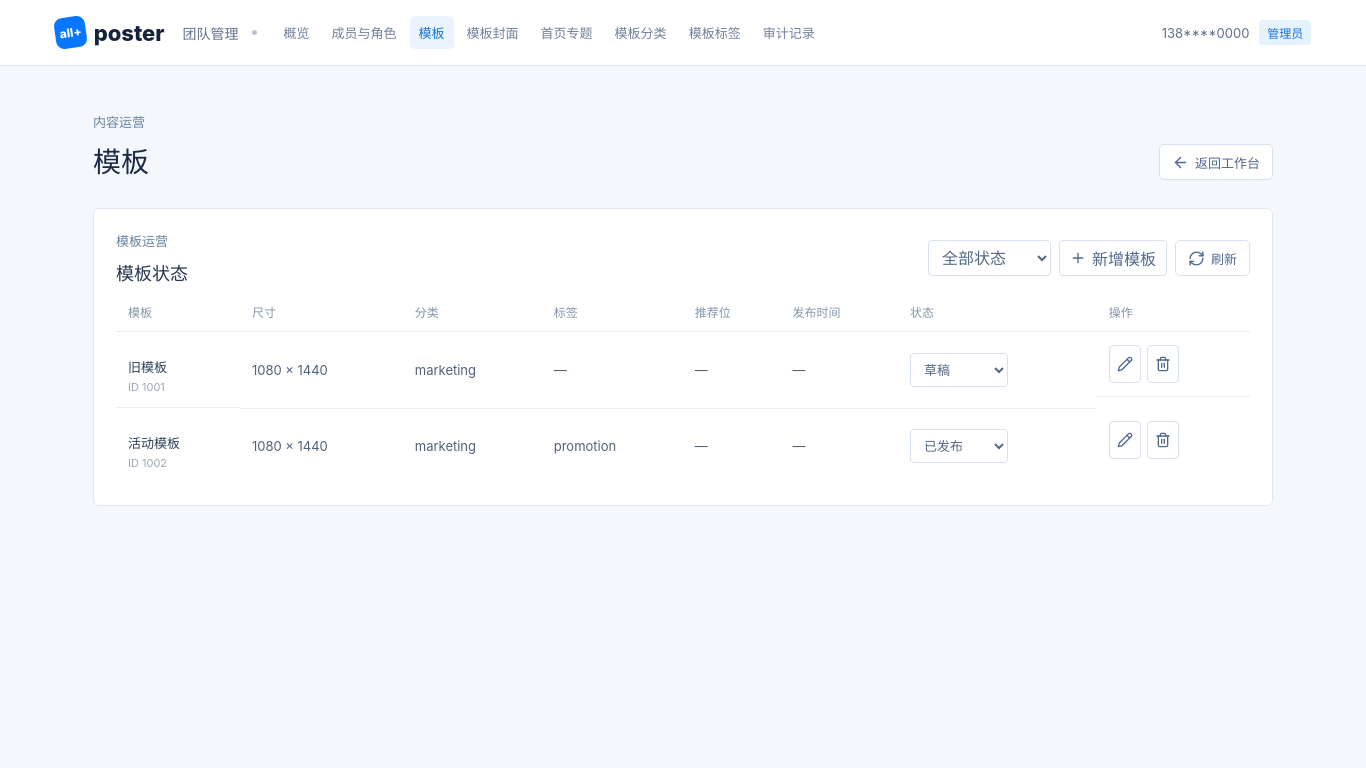
AdminTemplatesPage › strictly deletes an unreferenced template and keeps a referenced one
Click the button named "删除 旧模板" at coordinates (1163, 364), box [1147,345,1179,383]
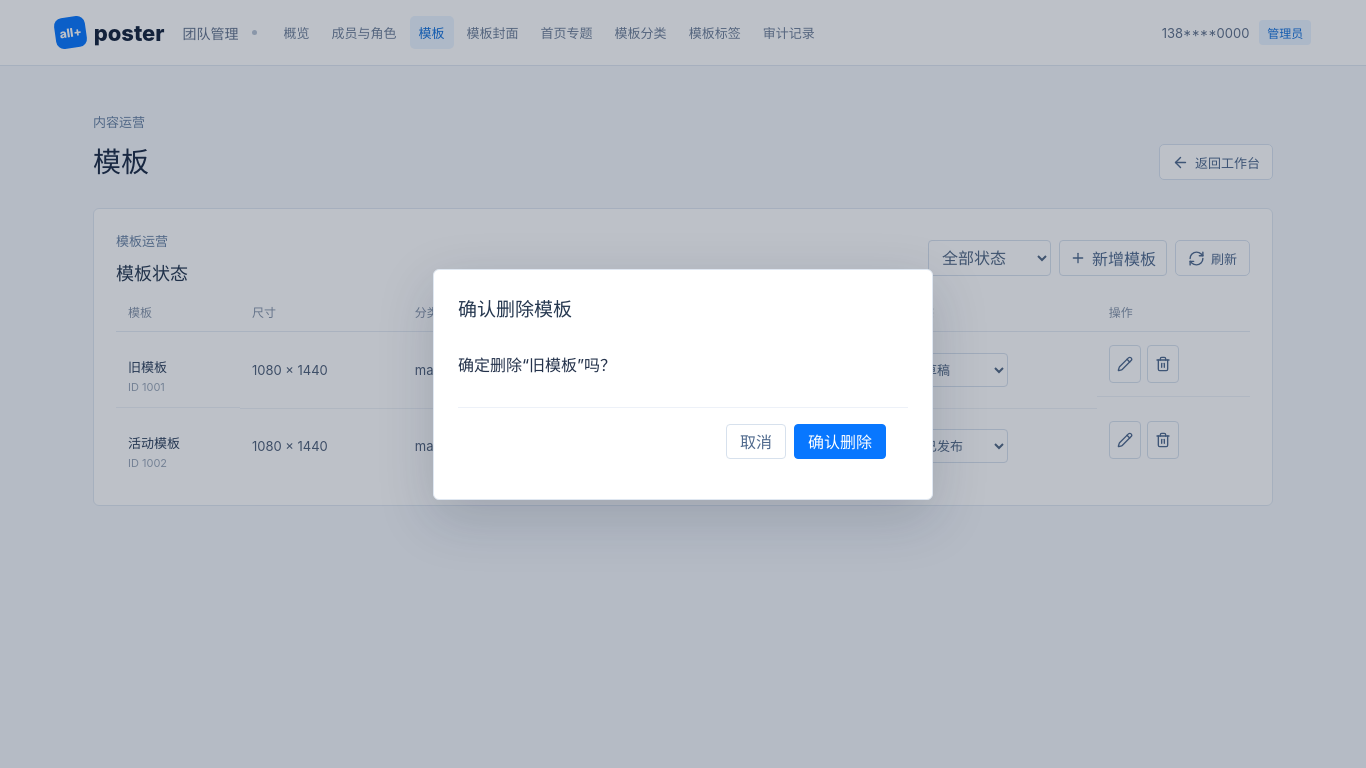
Click the button "确认删除" at coordinates (840, 441), box [794,424,886,458]
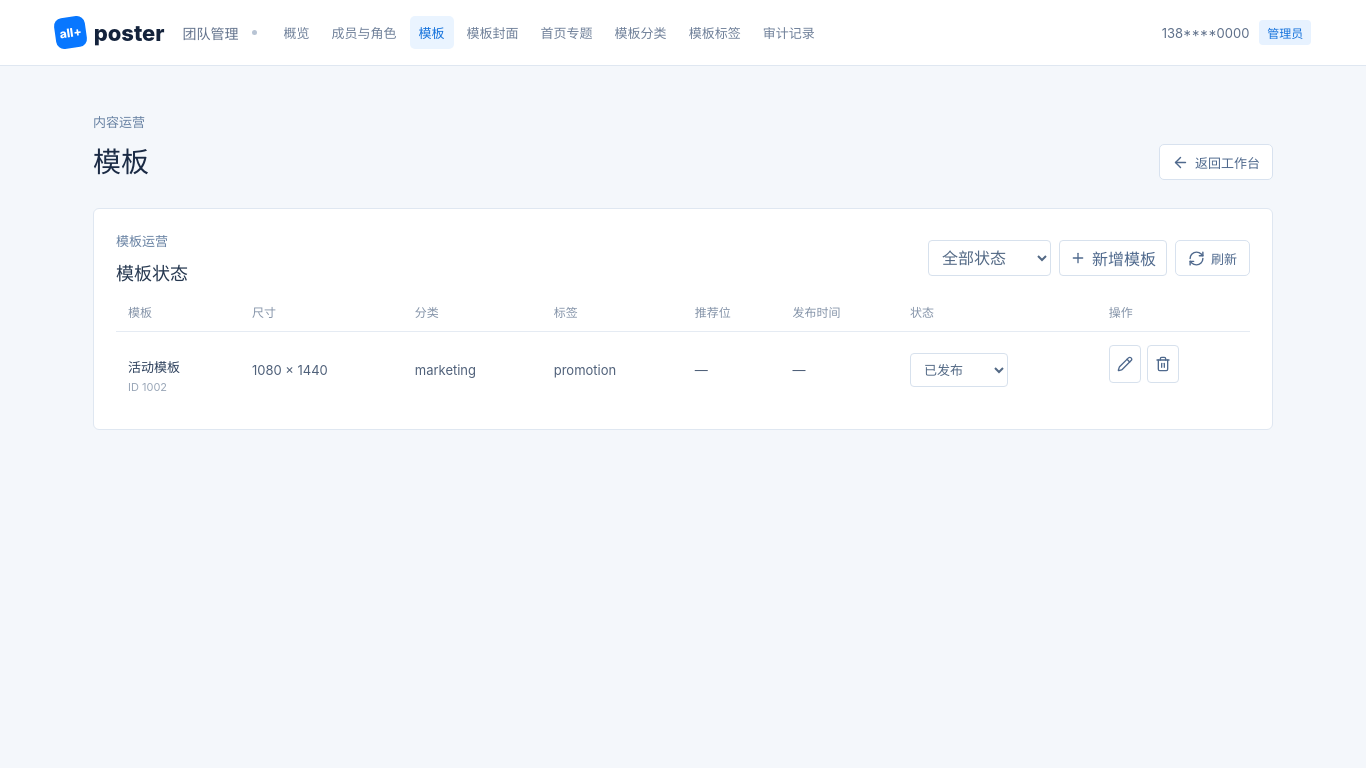
Check: the text "旧模板" is gone
Click the button named "删除 活动模板" at coordinates (1163, 364), box [1147,345,1179,383]
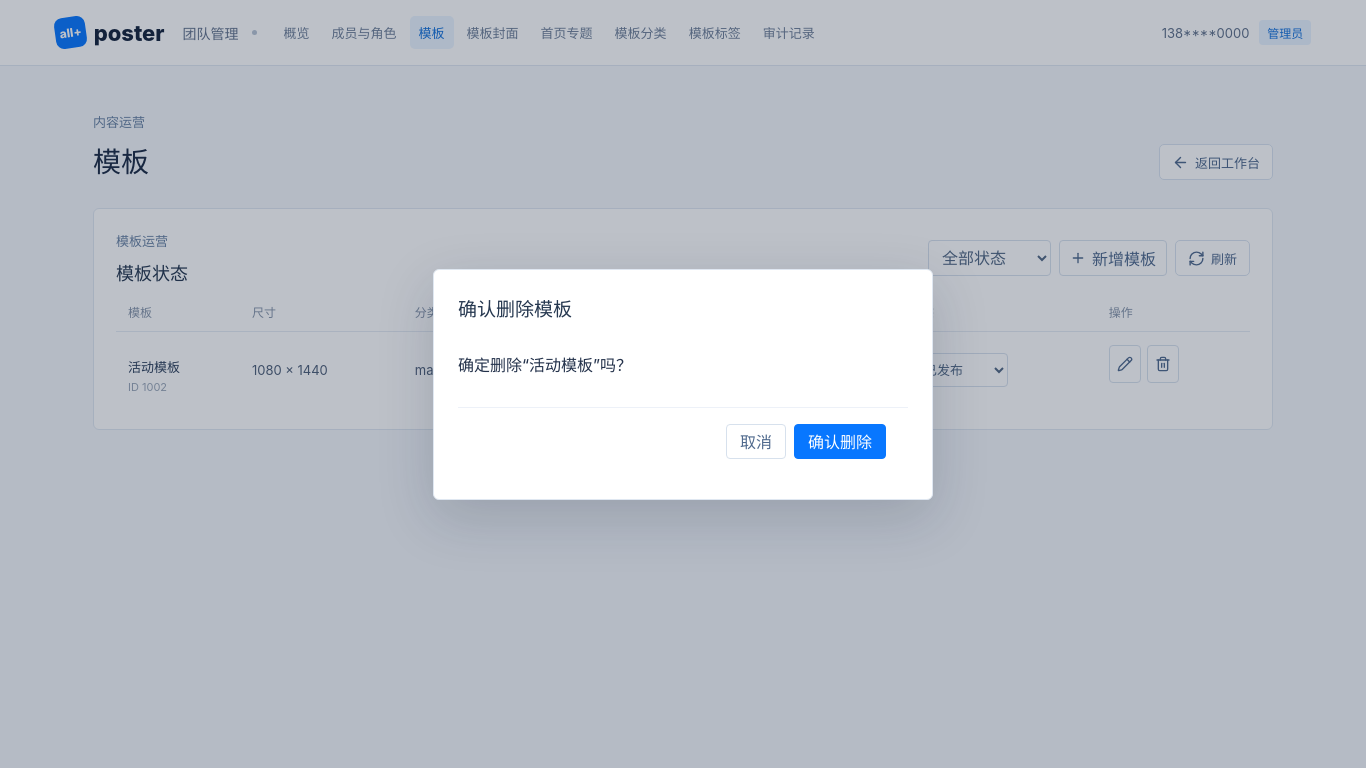
Click the button "确认删除" at coordinates (840, 441), box [794,424,886,458]
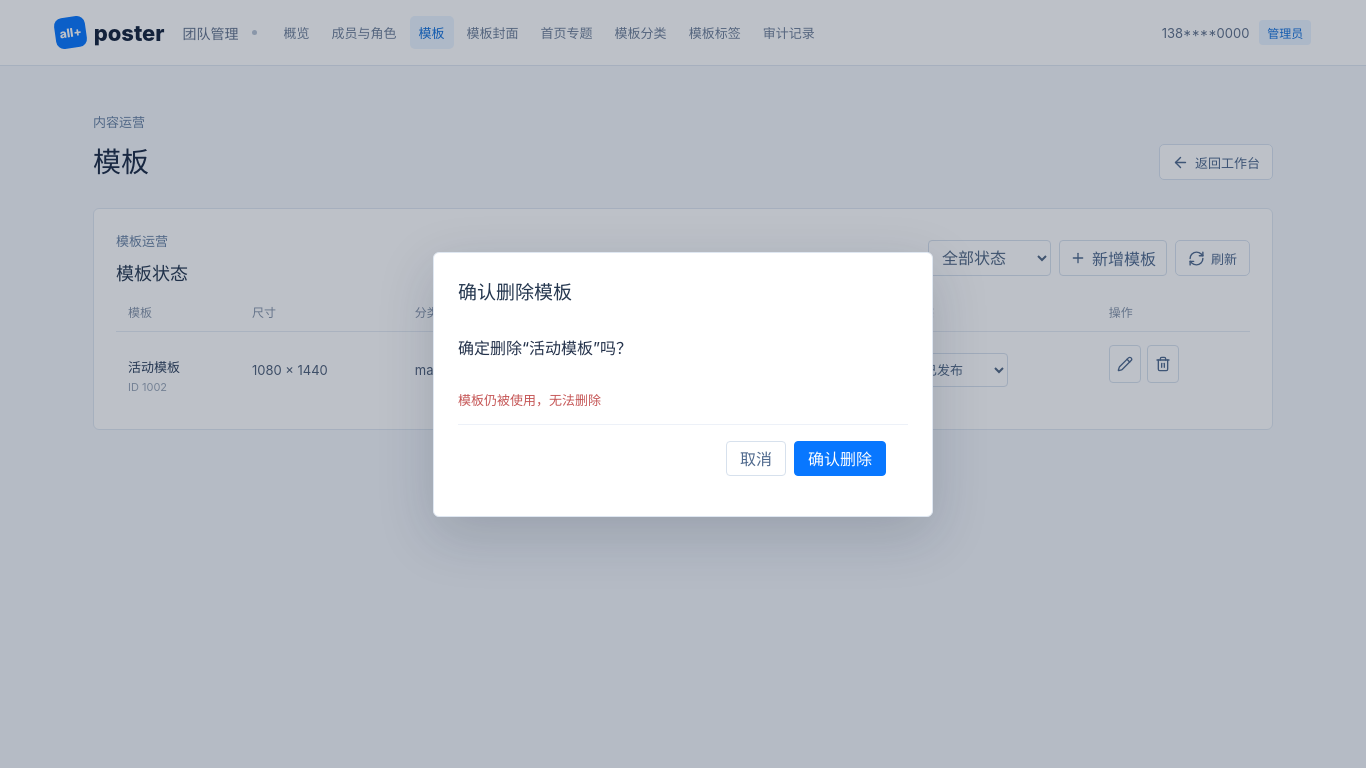
Check: the text "活动模板" is shown, box [128,359,180,375]
Check: the message shows "模板仍被使用", box [458,392,601,408]
